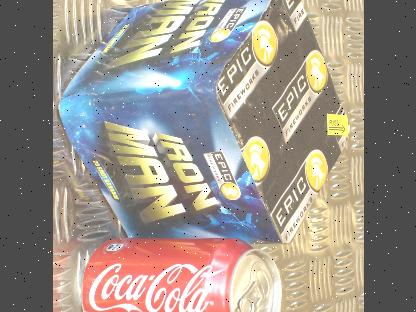Can: (73, 232, 285, 312)
